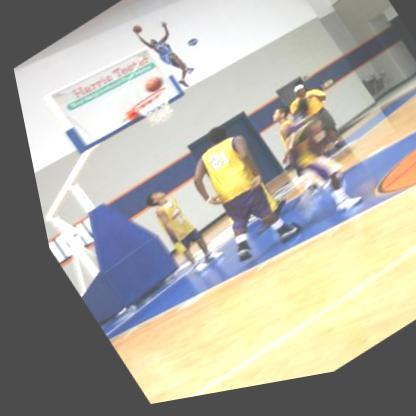basketball: (135, 77, 163, 100)
rim: (124, 88, 169, 117)
